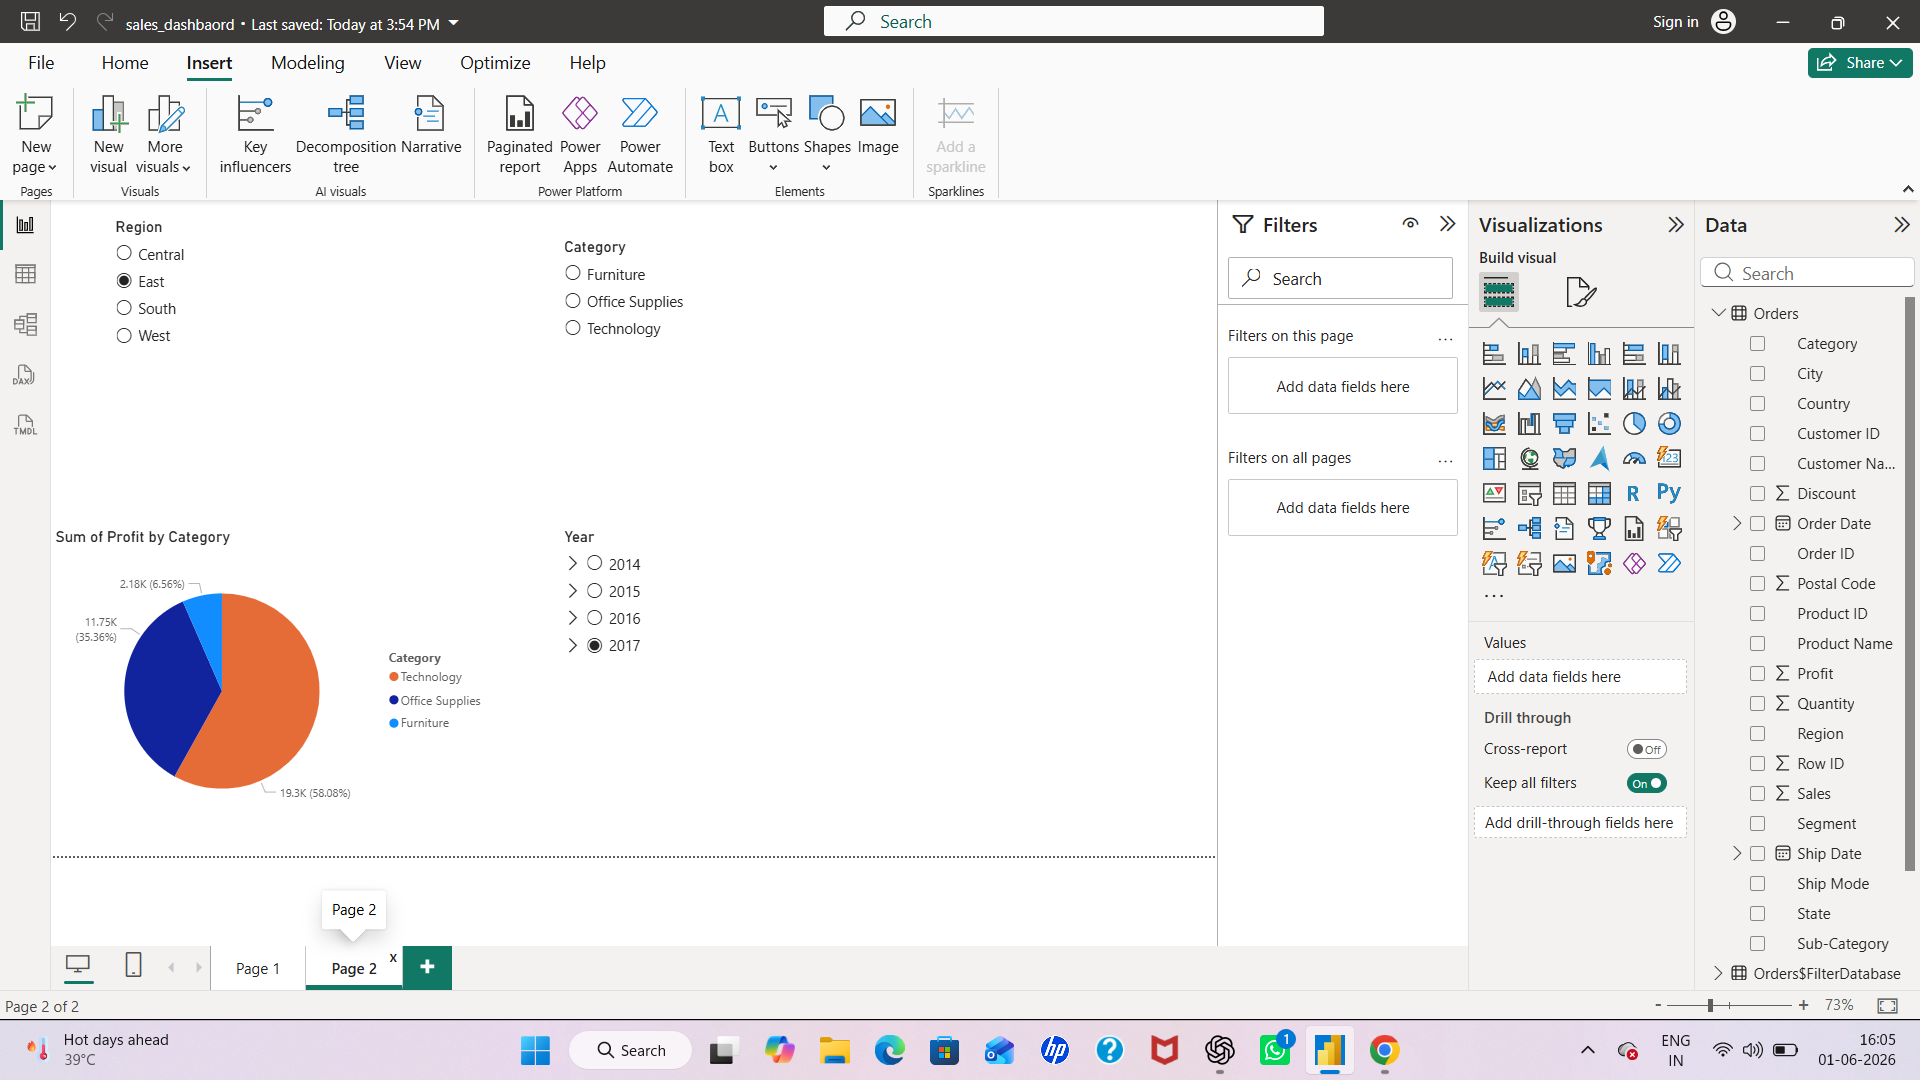

This screenshot's page, from the dashboard's own definition file:
{"tool":"powerbi","page":{"name":"Page 2","canvas":[1280,720],"ordinal":1},"visuals":[{"type":"pieChart","fields":{"Category":["Orders.Category"],"Y":["Sum(Orders.Profit)"]},"box":[0,359.5,485.8,340.3],"z":0},{"type":"listSlicer","fields":{"Values":["Orders.Region"]},"box":[65.9,19.2,374.6,340.3],"z":1000},{"type":"listSlicer","fields":{"Values":["Orders.Category"]},"box":[558.5,41.2,392.5,295],"z":2000},{"type":"listSlicer","fields":{"Values":["Orders.Order Date.Variation.Date Hierarchy.Year","Orders.Order Date.Variation.Date Hierarchy.Quarter","Orders.Order Date.Variation.Date Hierarchy.Month","Orders.Order Date.Variation.Date Hierarchy.Day"]},"box":[558.5,359.5,376,340.3],"z":2001}]}

Visuals, with their boxes on the page's 1280x720 design canvas (x1, y1, x2, y2). These are canvas units, not pixel positions in the 1920x1080 screenshot, which may show the page scaled, cropped or inside an application window:
pieChart - Orders.Category x Sum(Orders.Profit): <region>0, 360, 486, 700</region>
listSlicer - Orders.Region: <region>66, 19, 440, 360</region>
listSlicer - Orders.Category: <region>558, 41, 951, 336</region>
listSlicer - Orders.Order Date.Variation.Date Hierarchy.Year x Orders.Order Date.Variation.Date Hierarchy.Quarter: <region>558, 360, 934, 700</region>
